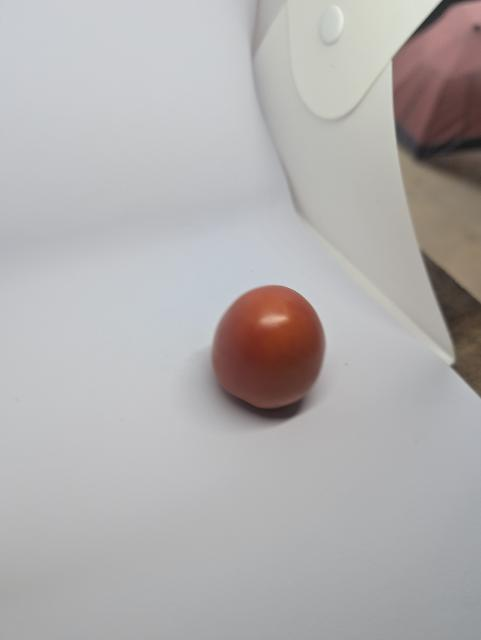red: (173, 263, 368, 430)
